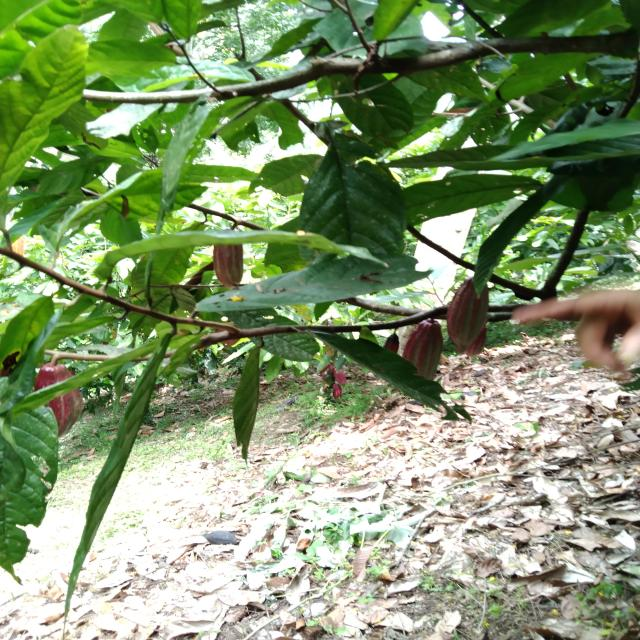Fitoftora: (33, 365, 92, 430)
Sana: (412, 314, 450, 387), (452, 278, 489, 352), (208, 240, 247, 287), (330, 383, 343, 400), (332, 373, 347, 384)
